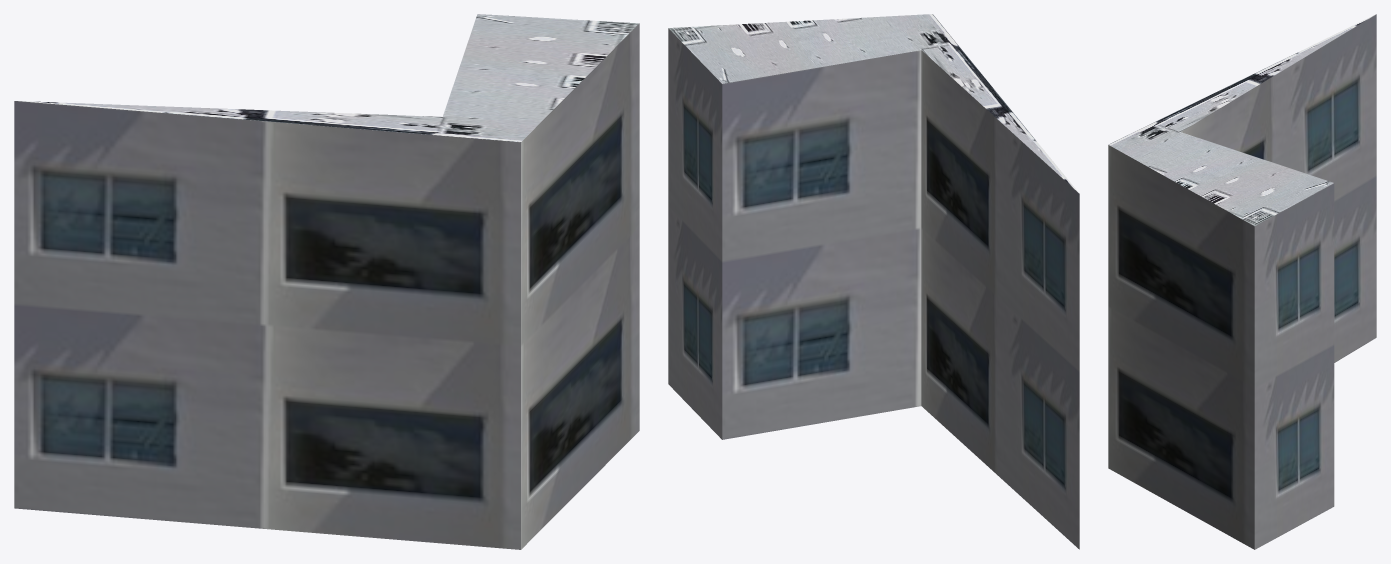
The model's file is ResTex__3186.fbx.
The picture shows the model from 3 angles, left to right: view 1: azimuth 30°, elevation 25°; view 2: azimuth 150°, elevation 25°; view 3: azimuth 270°, elevation 25°; orthographic projection. The views are drawn at different scales.
Visible parts, largest first — view 1: CityEngineMaterial_10_m, CityEngineMaterial_8_m; view 2: CityEngineMaterial_10_m, CityEngineMaterial_8_m; view 3: CityEngineMaterial_10_m, CityEngineMaterial_8_m.
Boxes of the visible parts, x1,y1,x2,y2 form: CityEngineMaterial_10_m: [14, 23, 639, 549]; CityEngineMaterial_8_m: [18, 14, 638, 142]; CityEngineMaterial_10_m: [668, 28, 1079, 549]; CityEngineMaterial_8_m: [668, 14, 1078, 192]; CityEngineMaterial_10_m: [1108, 14, 1376, 549]; CityEngineMaterial_8_m: [1108, 14, 1375, 226].
Size of the model in its own units: 8.44 by 6 by 4.51.
Materials: 2 (2 with a texture image).
